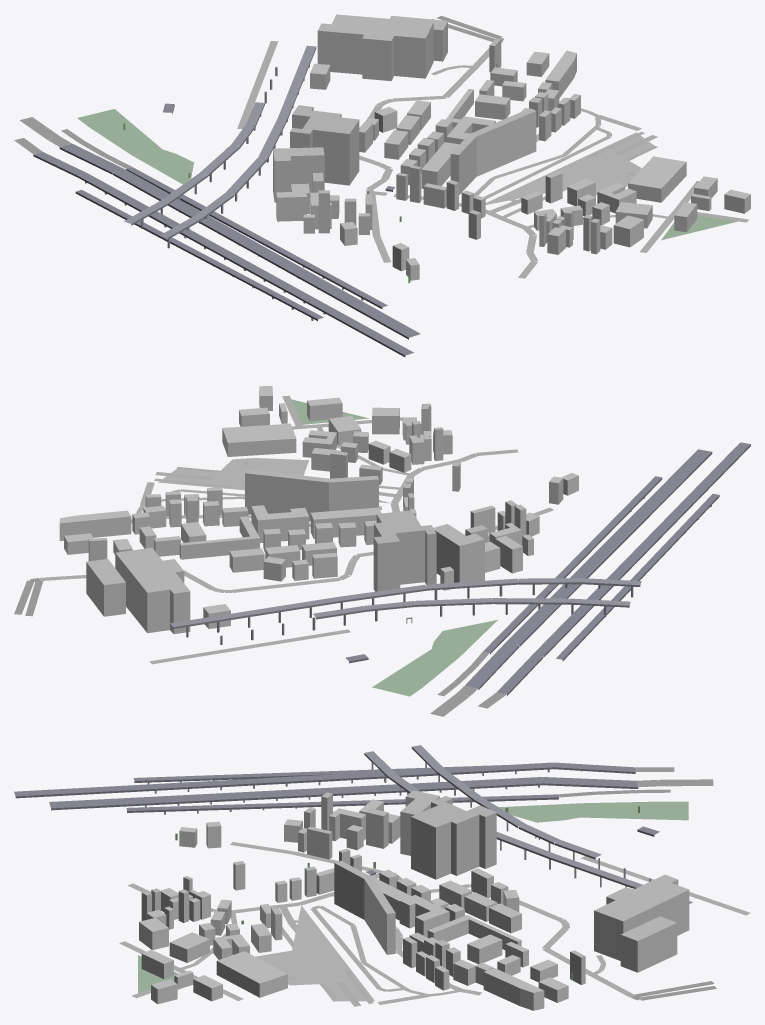
3 views of the same model, one above another, from view 1: azimuth 30°, elevation 25°; view 2: azimuth 150°, elevation 25°; view 3: azimuth 270°, elevation 25° (orthographic).
Bounding box in the file's own units: 540 × 54.05 × 669.
